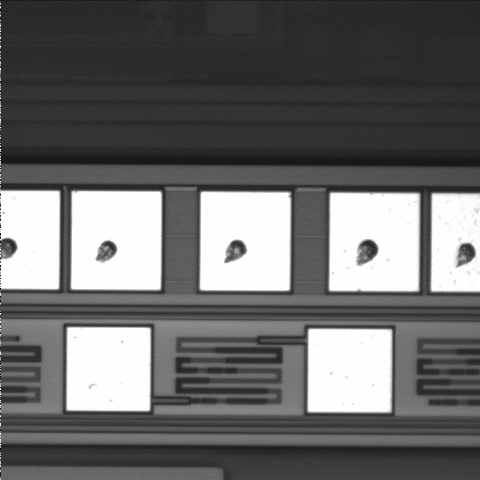pad: (200, 192, 291, 291), (71, 191, 161, 290), (329, 193, 419, 291), (67, 327, 150, 411), (308, 329, 392, 412)
